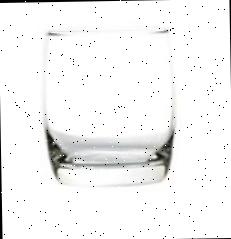glass: (38, 22, 179, 186)
